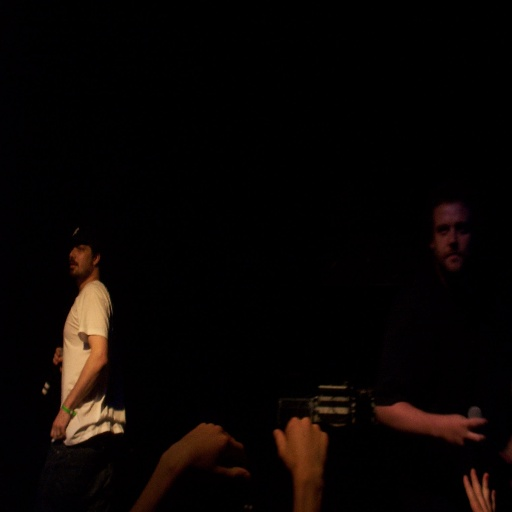hand: (172, 423, 251, 482), (272, 415, 327, 477), (444, 412, 487, 447), (463, 468, 496, 511), (47, 410, 72, 440), (52, 347, 62, 372)
